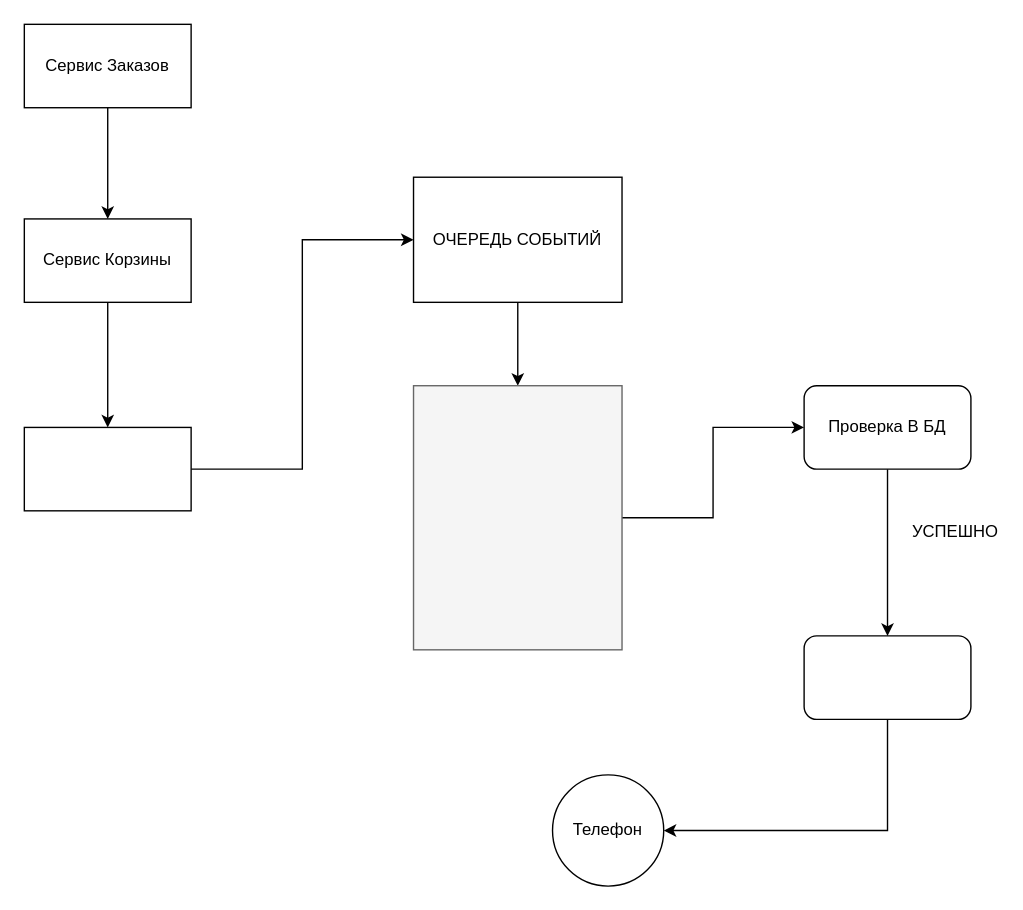
Some shapes in this 1023 by 910 pixel diagram are drawn without their labels. The centre of each missing label's shape, as x and y in pixels:
"MAIN СЕРВИС ПУШЕЙ" goes at point 517,517.
"Отправка" goes at point 887,677.
"Рассылка" goes at point 107,468.
